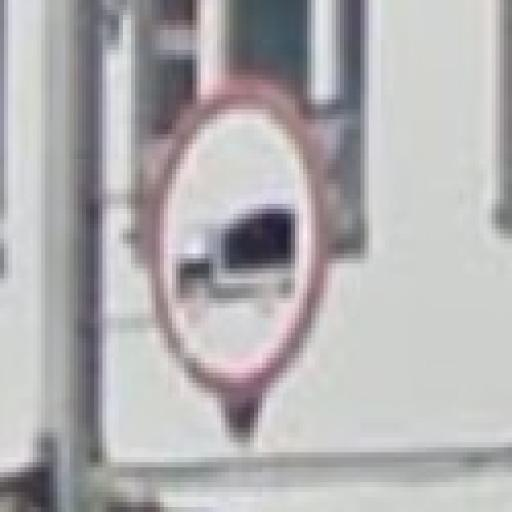traffic_sign: (144, 81, 329, 394)
